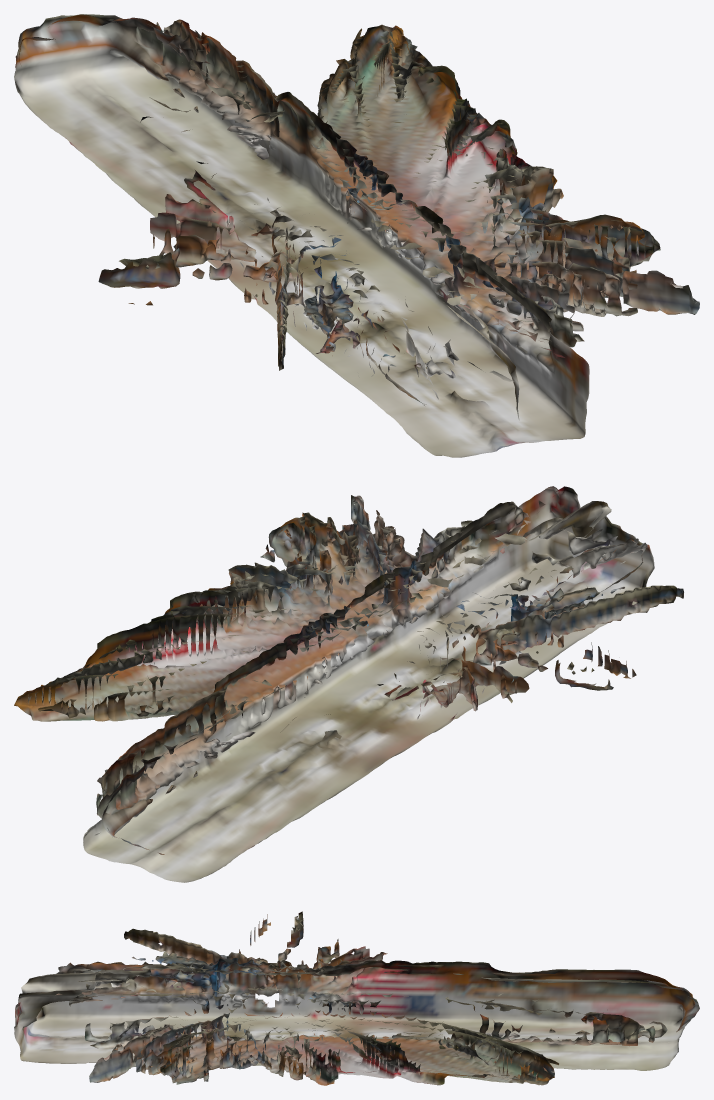
Rendered from collider.glb.
3 views of the same model, one above another, from view 1: azimuth 30°, elevation 25°; view 2: azimuth 150°, elevation 25°; view 3: azimuth 270°, elevation 25° (orthographic). The views are drawn at different scales.
Parts seen in each view (by area): view 1: world; view 2: world; view 3: world.
Part boxes in pixels (bbox=[...]): world: bbox=[14, 14, 699, 457]; world: bbox=[14, 486, 683, 882]; world: bbox=[14, 911, 699, 1085].
Bounding box in the file's own units: 7.38 × 1.51 × 13.18.
